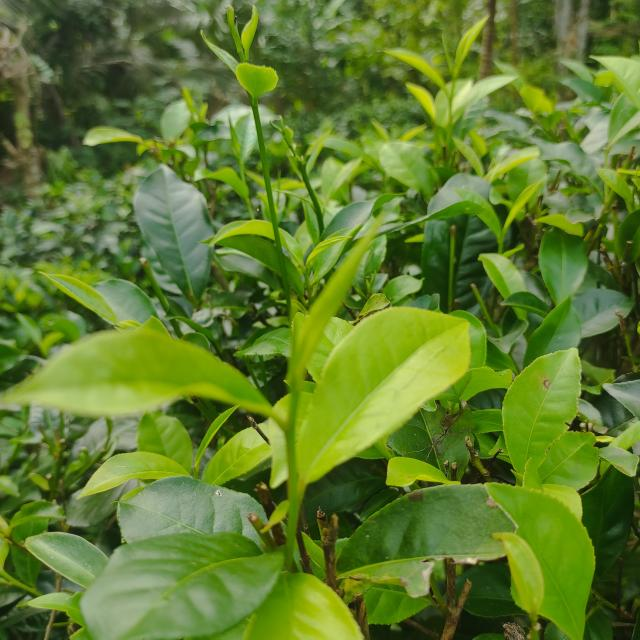unopened_leaf: (287, 198, 401, 388), (222, 0, 250, 61), (435, 27, 458, 77)
